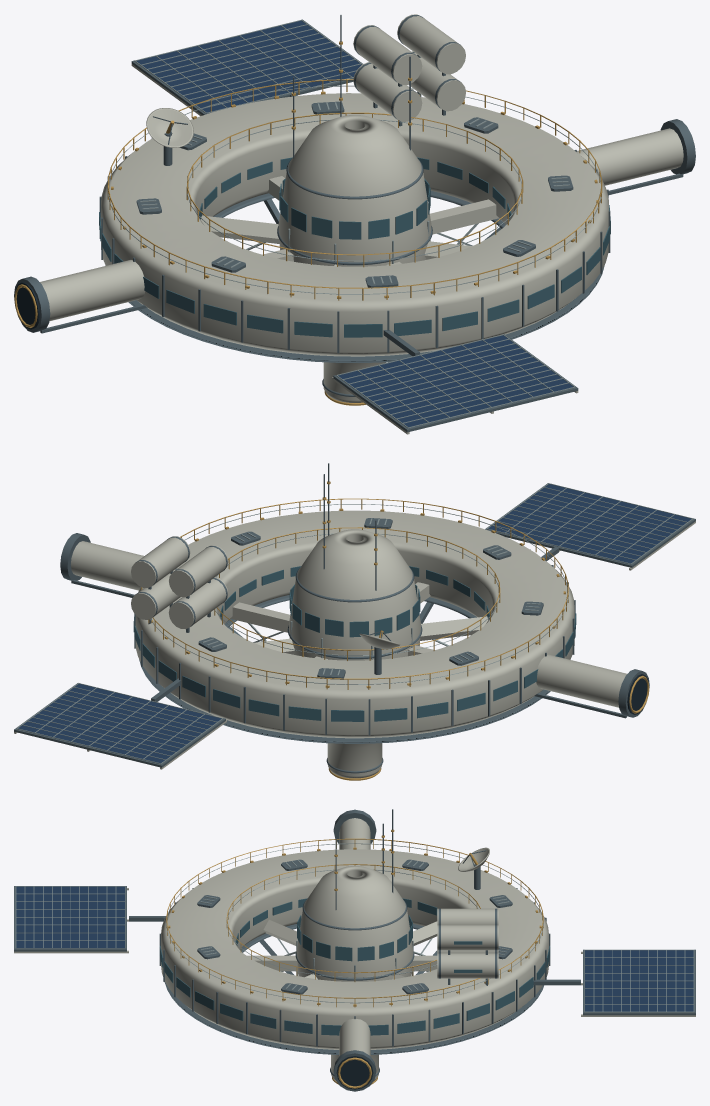
Rendered from orbital_d0_lod0.glb.
The picture shows the model from 3 angles, top to bottom: view 1: azimuth 30°, elevation 25°; view 2: azimuth 150°, elevation 25°; view 3: azimuth 270°, elevation 25°; orthographic projection. The views are drawn at different scales.
Parts seen in each view (by area): view 1: ORBITAL_STRUCTURE, SOLAR_B_SURFACE, SOLAR_A_SURFACE, DISH_SURFACE; view 2: ORBITAL_STRUCTURE, SOLAR_A_SURFACE, SOLAR_B_SURFACE; view 3: ORBITAL_STRUCTURE, SOLAR_B_SURFACE, SOLAR_A_SURFACE, DISH_SURFACE.
Boxes of the visible parts, left/top/right/bottom form: ORBITAL_STRUCTURE: left=14, top=14, right=695, bottom=405; SOLAR_B_SURFACE: left=332, top=334, right=578, bottom=434; SOLAR_A_SURFACE: left=131, top=19, right=362, bottom=116; DISH_SURFACE: left=146, top=108, right=193, bottom=147; ORBITAL_STRUCTURE: left=60, top=463, right=649, bottom=780; SOLAR_A_SURFACE: left=14, top=683, right=226, bottom=769; SOLAR_B_SURFACE: left=485, top=483, right=695, bottom=570; ORBITAL_STRUCTURE: left=129, top=809, right=580, bottom=1091; SOLAR_B_SURFACE: left=14, top=886, right=128, bottom=953; SOLAR_A_SURFACE: left=581, top=949, right=695, bottom=1016; DISH_SURFACE: left=458, top=847, right=489, bottom=871.
Bounding box in the file's own units: 61.76 × 32 × 72.4.
